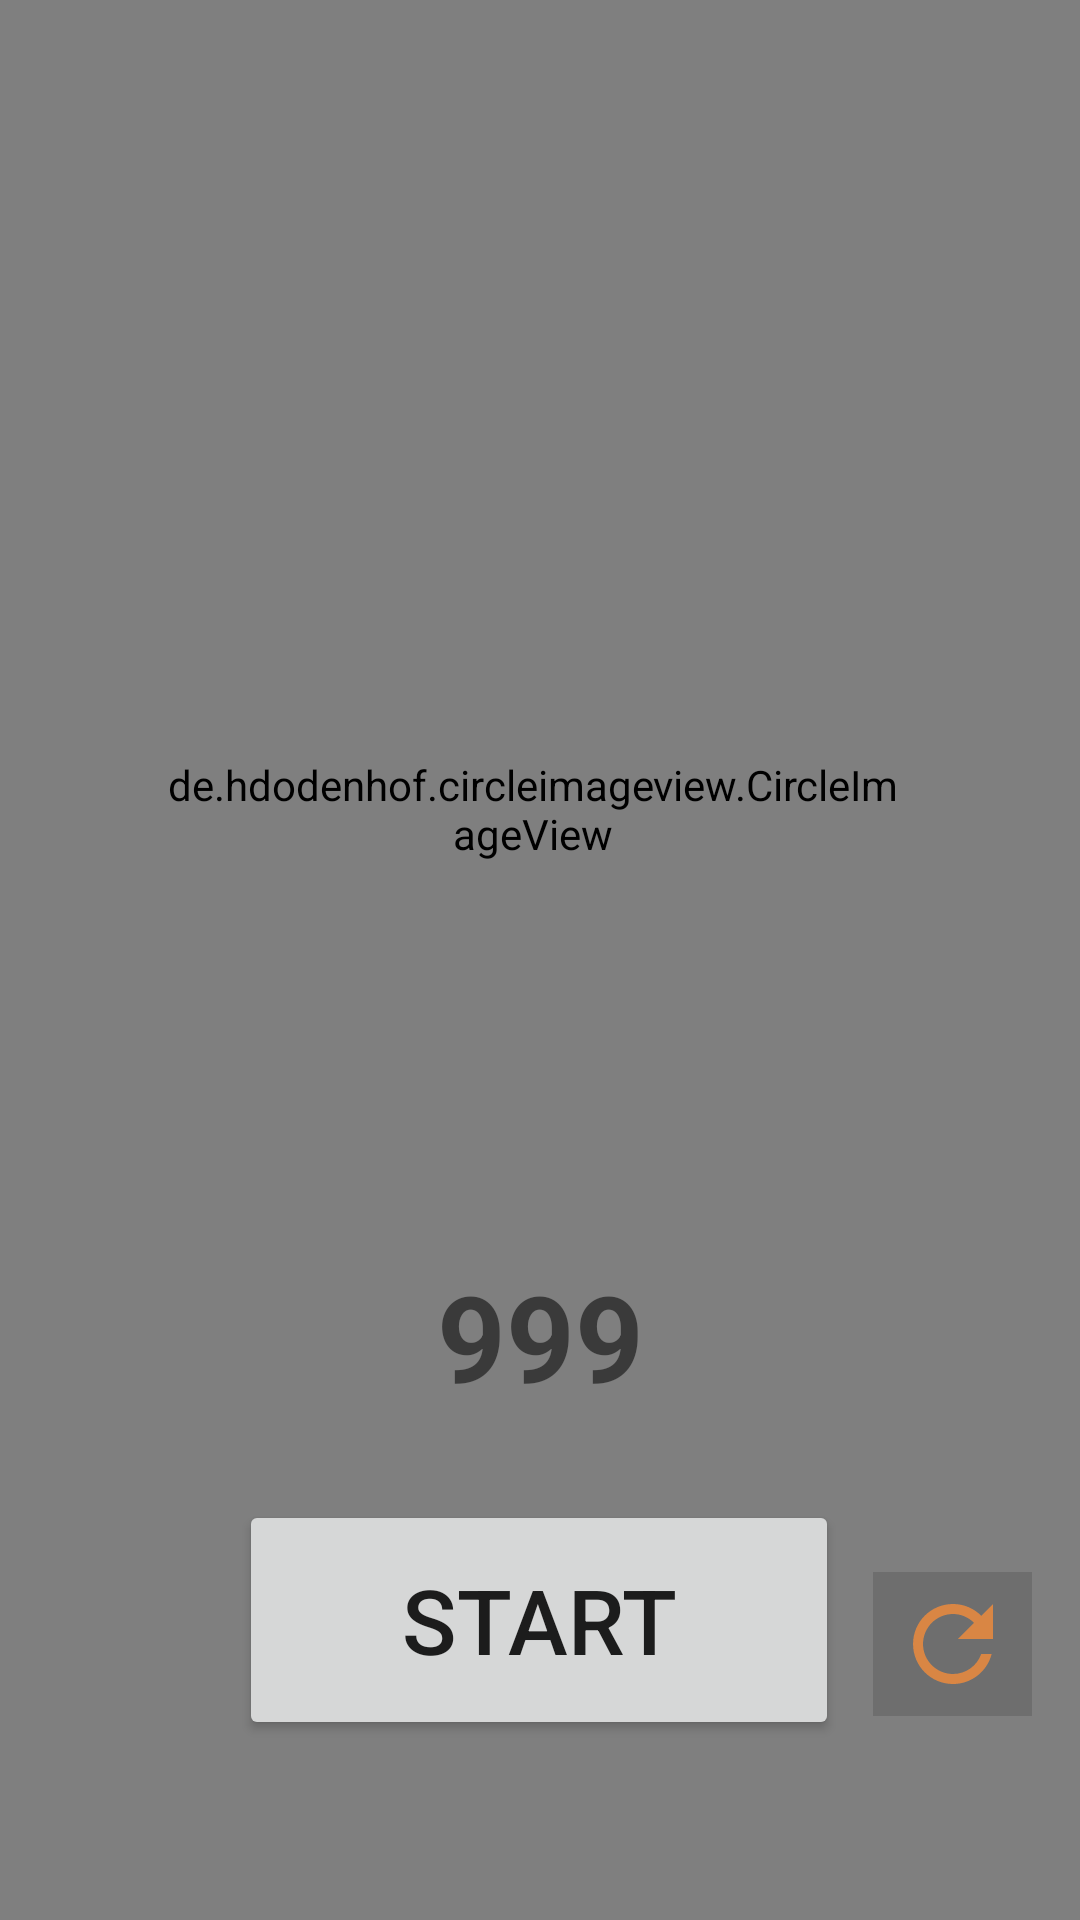

Named icons in this screenshot (1080*1920) and their bounding boxes, [x1, y1, x2, y2]:
refresh: [873, 1572, 1032, 1716]
